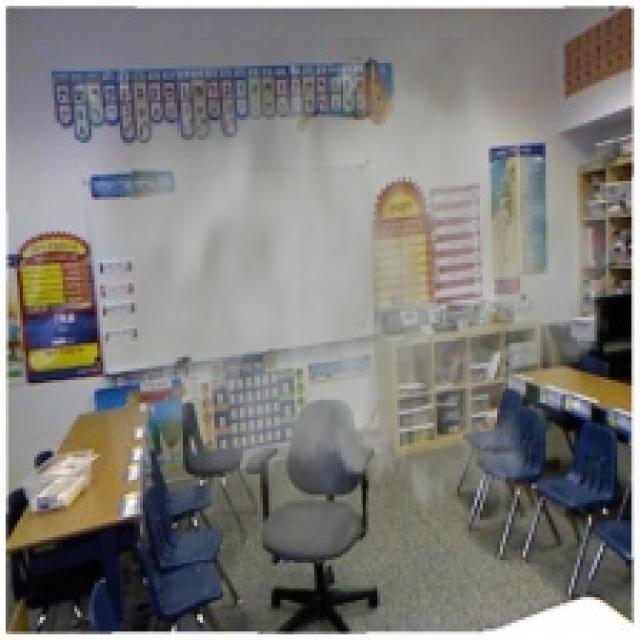smoke: (86, 37, 608, 572)
